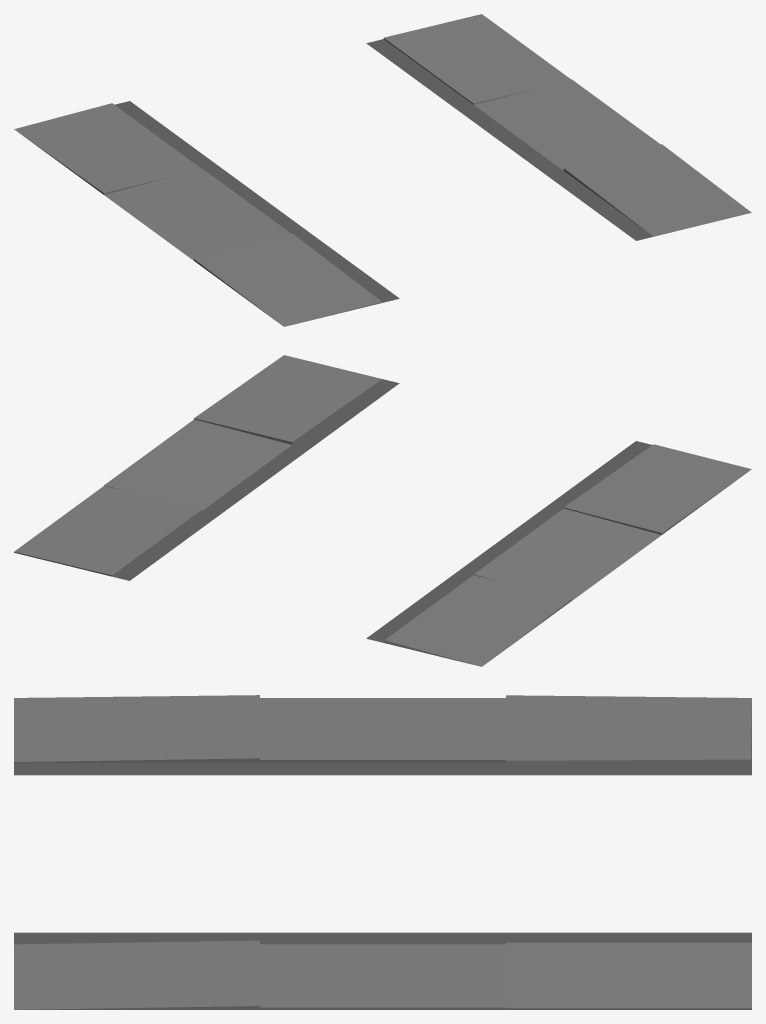
File: SW_ENV_StreetEntrance_01_SidewalkCollar.fbx
The picture shows the model from 3 angles, top to bottom: view 1: azimuth 30°, elevation 25°; view 2: azimuth 150°, elevation 25°; view 3: azimuth 270°, elevation 25°; orthographic projection. The views are drawn at different scales.
Visible parts, largest first — view 1: SW_ENV_StreetEntrance_01_SidewalkCollar; view 2: SW_ENV_StreetEntrance_01_SidewalkCollar; view 3: SW_ENV_StreetEntrance_01_SidewalkCollar.
Part boxes in pixels (x1,y1,x2,y2): SW_ENV_StreetEntrance_01_SidewalkCollar: (14, 14, 751, 326); SW_ENV_StreetEntrance_01_SidewalkCollar: (14, 355, 751, 666); SW_ENV_StreetEntrance_01_SidewalkCollar: (14, 695, 751, 1009).
Bounding box in the file's own units: 5 × 0.0383 × 5.
